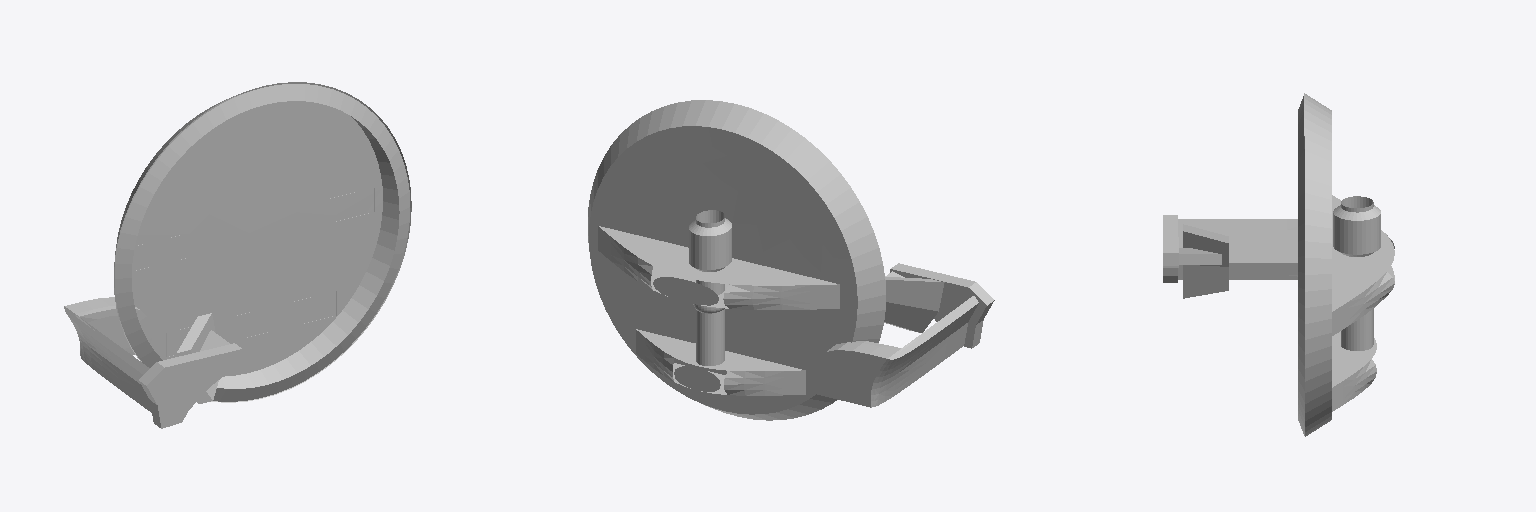
File: hub_left.obj
3 renders of one model, left to right at view 1: azimuth 30°, elevation 25°; view 2: azimuth 150°, elevation 25°; view 3: azimuth 270°, elevation 25°, orthographic.
Visible parts, largest first — view 1: hub_left; view 2: hub_left; view 3: hub_left.
Boxes of the visible parts, <box> form: hub_left: <box>64,82,411,428</box>; hub_left: <box>588,100,994,420</box>; hub_left: <box>1163,93,1394,436</box>.
Bounding box in the file's own units: 1.32 × 1.18 × 0.7999.